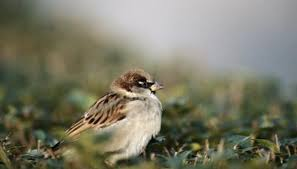hsparrow: (53, 70, 174, 163)
